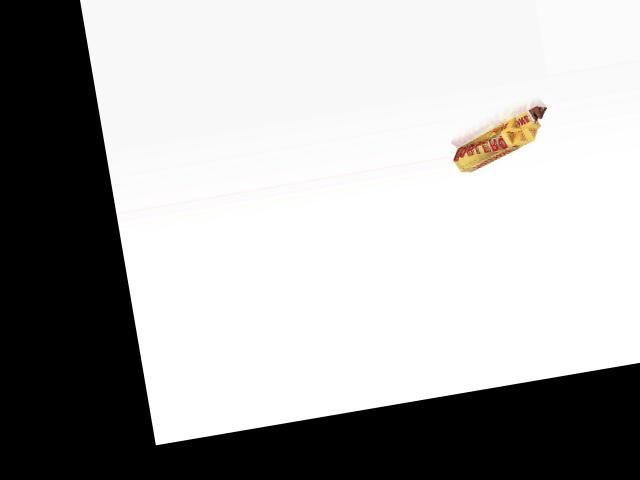chocolate: (446, 100, 555, 176)
